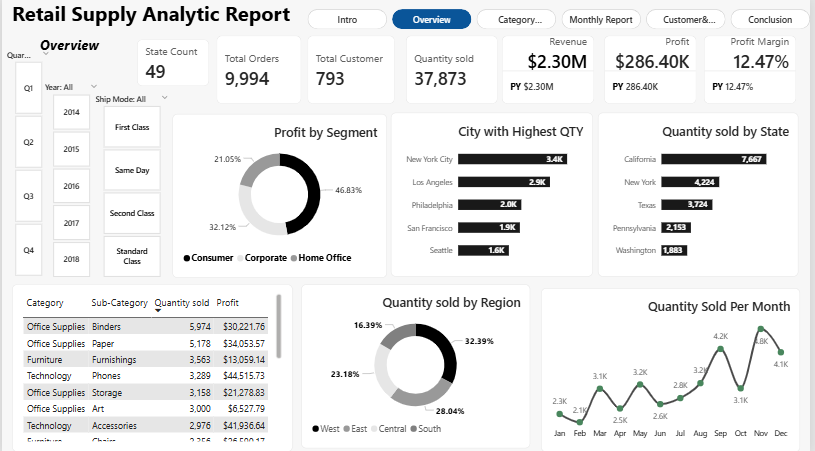

This screenshot's page, from the dashboard's own definition file:
{"tool":"powerbi","page":{"name":"Overview","canvas":[1280,720],"ordinal":1},"visuals":[{"type":"cardVisual","fields":{"Data":["KPI.Quantity sold"]},"box":[640,58.6,145.7,108],"z":0},{"type":"cardVisual","fields":{"Data":["KPI.Total Customer"]},"box":[484.3,58.6,138.6,108],"z":1000},{"type":"cardVisual","fields":{"Data":["KPI.Revenue"]},"box":[792.6,58.6,146.5,108.7],"z":2000},{"type":"cardVisual","fields":{"Data":["KPI.Profit"]},"box":[954.3,58.6,146,108],"z":3000},{"type":"cardVisual","fields":{"Data":["KPI.Profit Margin"]},"box":[1111.4,58.6,146,108],"z":4000},{"type":"textbox","box":[16,0,452,48],"z":5000},{"type":"lineChart","title":"Quantity Sold Per Month","fields":{"Category":["Calendar Table.Month Name"],"Y":["KPI.Quantity sold"]},"box":[854,458,410,260],"z":6000},{"type":"donutChart","fields":{"Category":["Retails Order Full Dataset.Segment"],"Y":["KPI.Profit"]},"box":[270,182,340,260],"z":7000},{"type":"slicer","fields":{"Values":["Retails Order Full Dataset.Ship Mode"]},"box":[140,150,130,292],"z":8000},{"type":"clusteredBarChart","title":"City with Highest QTY","fields":{"Y":["KPI.Quantity sold"],"Category":["Retails Order Full Dataset.City"]},"box":[616,180,320,260],"z":9000},{"type":"barChart","fields":{"Category":["Retails Order Full Dataset.State"],"Y":["KPI.Quantity sold"]},"box":[944,180,318,260],"z":10000},{"type":"donutChart","fields":{"Category":["Retails Order Full Dataset.Region"],"Y":["KPI.Quantity sold"]},"box":[474.3,451.4,362.9,260],"z":11000},{"type":"slicer","fields":{"Values":["Calendar Table.Year"]},"box":[60,132,98,310],"z":12000},{"type":"slicer","fields":{"Values":["Calendar Table.Quarter (Q)"]},"box":[0,80,82,360],"z":13000},{"type":"tableEx","fields":{"Values":["Retails Order Full Dataset.Category","Retails Order Full Dataset.Sub-Category","KPI.Quantity sold","KPI.Profit"]},"box":[15.7,451.4,444.3,265.7],"z":14000},{"type":"textbox","box":[60,58.6,158.6,41.4],"z":15000},{"type":"cardVisual","fields":{"Data":["KPI.Total Orders"]},"box":[340,58.6,134.3,108],"z":16000},{"type":"cardVisual","fields":{"Data":["KPI.State Count"]},"box":[214,64,114,74],"z":17000},{"type":"pageNavigator","box":[484,16,796,32],"z":18000}]}

Visuals, with their boxes in screenshot pixels (x1, y1, x2, y2), scaled from the page's 1280x720 canvas onto the 815x451 screenshot:
cardVisual - KPI.Quantity sold: Rect(408, 37, 500, 104)
cardVisual - KPI.Total Customer: Rect(308, 37, 397, 104)
cardVisual - KPI.Revenue: Rect(505, 37, 598, 105)
cardVisual - KPI.Profit: Rect(608, 37, 701, 104)
cardVisual - KPI.Profit Margin: Rect(708, 37, 801, 104)
textbox: Rect(10, 0, 298, 30)
"Quantity Sold Per Month" lineChart: Rect(544, 287, 805, 450)
donutChart - Retails Order Full Dataset.Segment x KPI.Profit: Rect(172, 114, 388, 277)
slicer - Retails Order Full Dataset.Ship Mode: Rect(89, 94, 172, 277)
"City with Highest QTY" clusteredBarChart: Rect(392, 113, 596, 276)
barChart - Retails Order Full Dataset.State x KPI.Quantity sold: Rect(601, 113, 804, 276)
donutChart - Retails Order Full Dataset.Region x KPI.Quantity sold: Rect(302, 283, 533, 446)
slicer - Calendar Table.Year: Rect(38, 83, 101, 277)
slicer - Calendar Table.Quarter (Q): Rect(0, 50, 52, 276)
tableEx - Retails Order Full Dataset.Category x Retails Order Full Dataset.Sub-Category: Rect(10, 283, 293, 449)
textbox: Rect(38, 37, 139, 63)
cardVisual - KPI.Total Orders: Rect(216, 37, 302, 104)
cardVisual - KPI.State Count: Rect(136, 40, 209, 86)
pageNavigator: Rect(308, 10, 814, 30)
